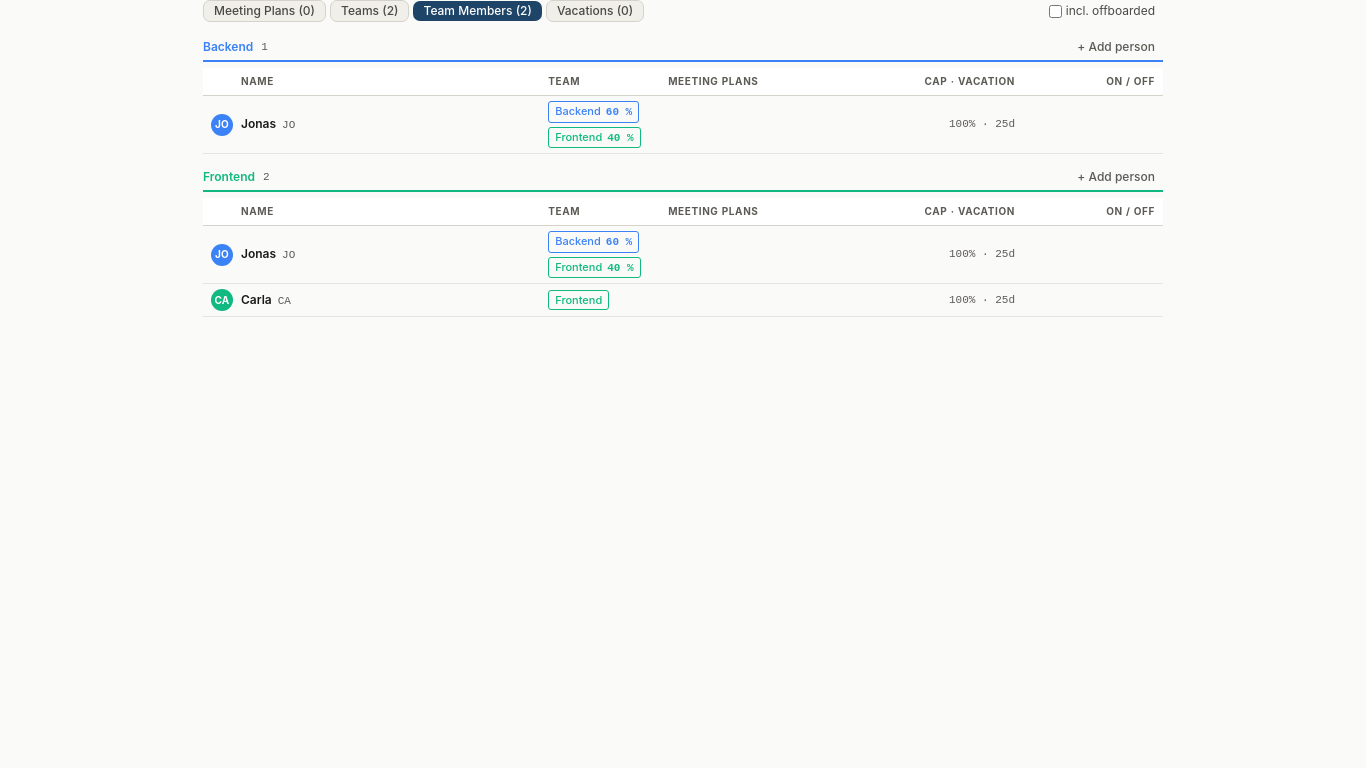
Scenario: ResView: multi-team members › lays the member dialog out in two columns
The image size is (1366, 768).
Click the text "Carla" at (683, 300), box top-left (203, 284), bottom-right (1163, 316)
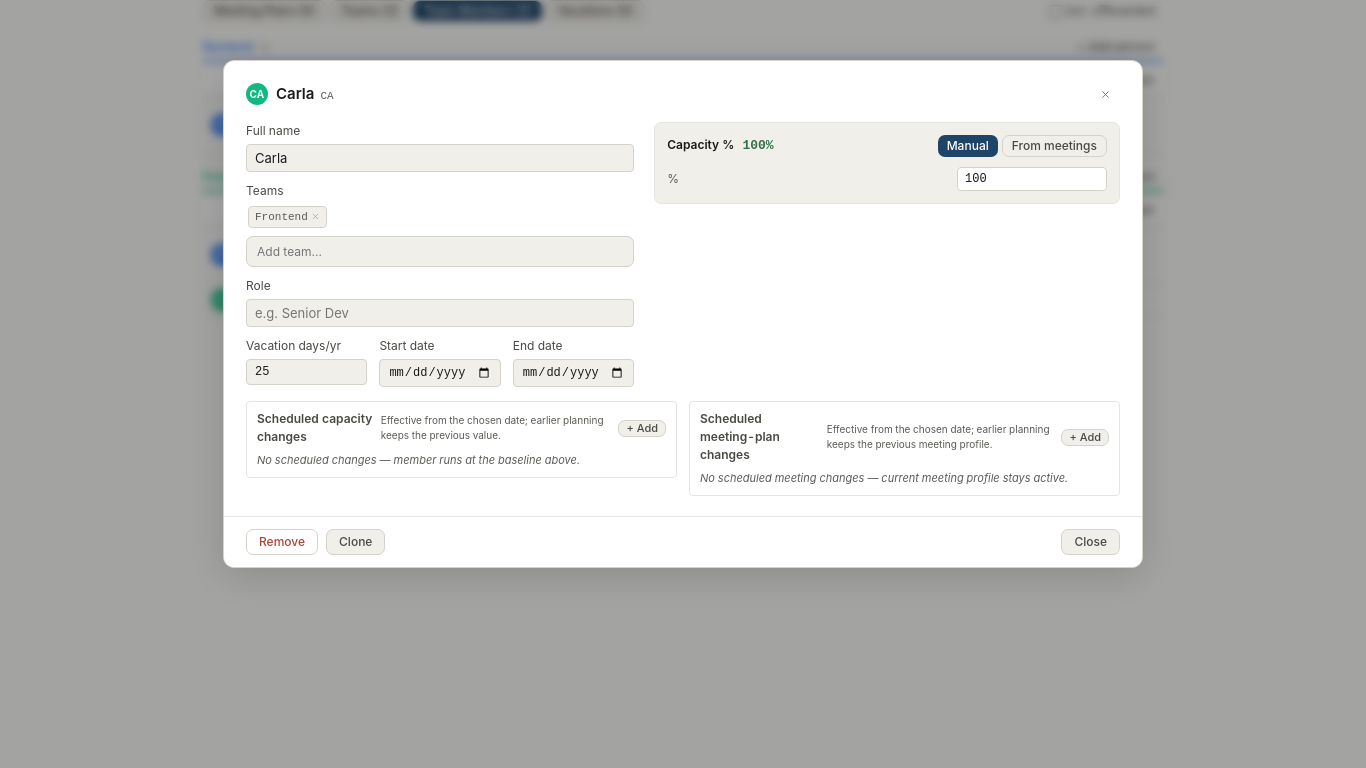
Now the element with class "member-fields" is shown, box top-left (246, 122), bottom-right (634, 387)
Now the element with class "member-cap" shows "%", box top-left (766, 138), bottom-right (774, 153)
